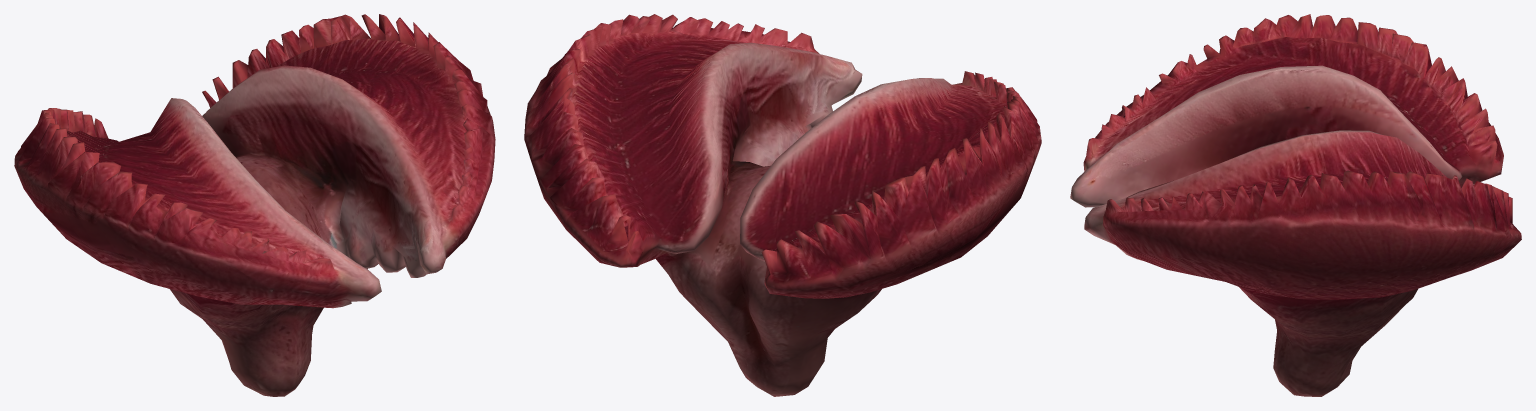
The model's file is Gills.glb.
3 views of the same model, side by side, from view 1: azimuth 30°, elevation 25°; view 2: azimuth 150°, elevation 25°; view 3: azimuth 270°, elevation 25° (orthographic). The views are drawn at different scales.
Visible parts, largest first — view 1: tripo_node_dac21d7c-4eee-45ee-b0d5-046e8cf679a2.001; view 2: tripo_node_dac21d7c-4eee-45ee-b0d5-046e8cf679a2.001; view 3: tripo_node_dac21d7c-4eee-45ee-b0d5-046e8cf679a2.001.
Part boxes in pixels (<box>): tripo_node_dac21d7c-4eee-45ee-b0d5-046e8cf679a2.001: <box>14,14,495,396</box>; tripo_node_dac21d7c-4eee-45ee-b0d5-046e8cf679a2.001: <box>524,14,1041,396</box>; tripo_node_dac21d7c-4eee-45ee-b0d5-046e8cf679a2.001: <box>1070,14,1521,396</box>.
Bounding box in the file's own units: 0.1523 × 0.1084 × 0.1479.
Materials: 1 (1 with a texture image).
